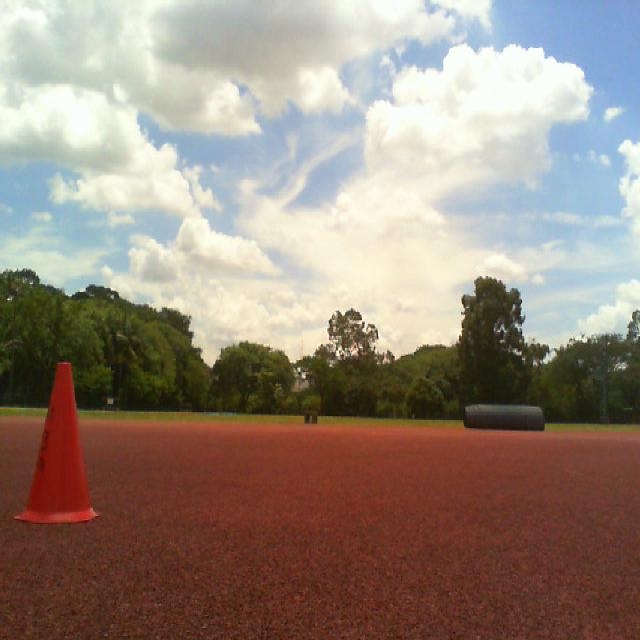cone: (15, 363, 98, 525)
